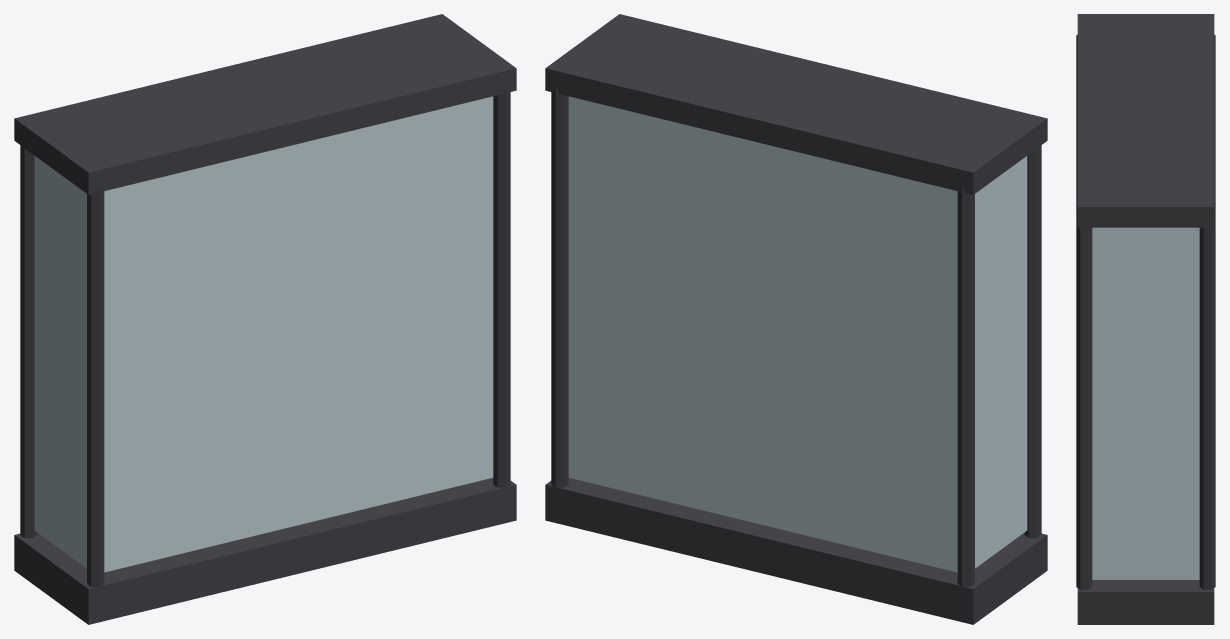
Rendered from Vitrine.fbx.
3 views of the same model, side by side, from view 1: azimuth 30°, elevation 25°; view 2: azimuth 150°, elevation 25°; view 3: azimuth 270°, elevation 25° (orthographic). The views are drawn at different scales.
Parts seen in each view (by area): view 1: Vitrine_1; view 2: Vitrine_1; view 3: Vitrine_1.
Part boxes in pixels (x1=…): Vitrine_1: x1=14, y1=14, x2=516, y2=624; Vitrine_1: x1=545, y1=14, x2=1047, y2=624; Vitrine_1: x1=1076, y1=14, x2=1215, y2=624.
Size of the model in its own units: 200 by 202 by 61.
